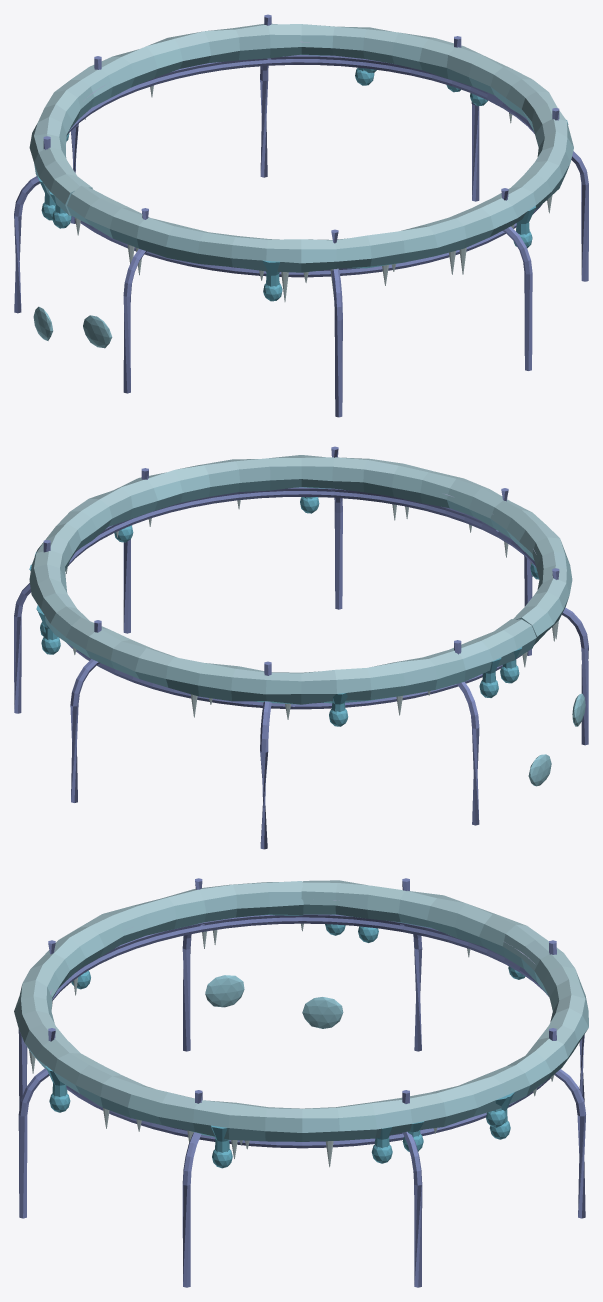
File: goo_jar_trim_3_mid@crystal.fbx
The picture shows the model from 3 angles, top to bottom: view 1: azimuth 30°, elevation 25°; view 2: azimuth 150°, elevation 25°; view 3: azimuth 270°, elevation 25°; orthographic projection. The views are drawn at different scales.
Parts seen in each view (by area): view 1: goo_jar_trim_3_mid; view 2: goo_jar_trim_3_mid; view 3: goo_jar_trim_3_mid.
Boxes of the visible parts, x1,y1,x2,y2 form: goo_jar_trim_3_mid: [14, 14, 588, 417]; goo_jar_trim_3_mid: [14, 446, 588, 849]; goo_jar_trim_3_mid: [14, 878, 588, 1287].
Bounding box in the file's own units: 47.64 × 16.05 × 45.98.
